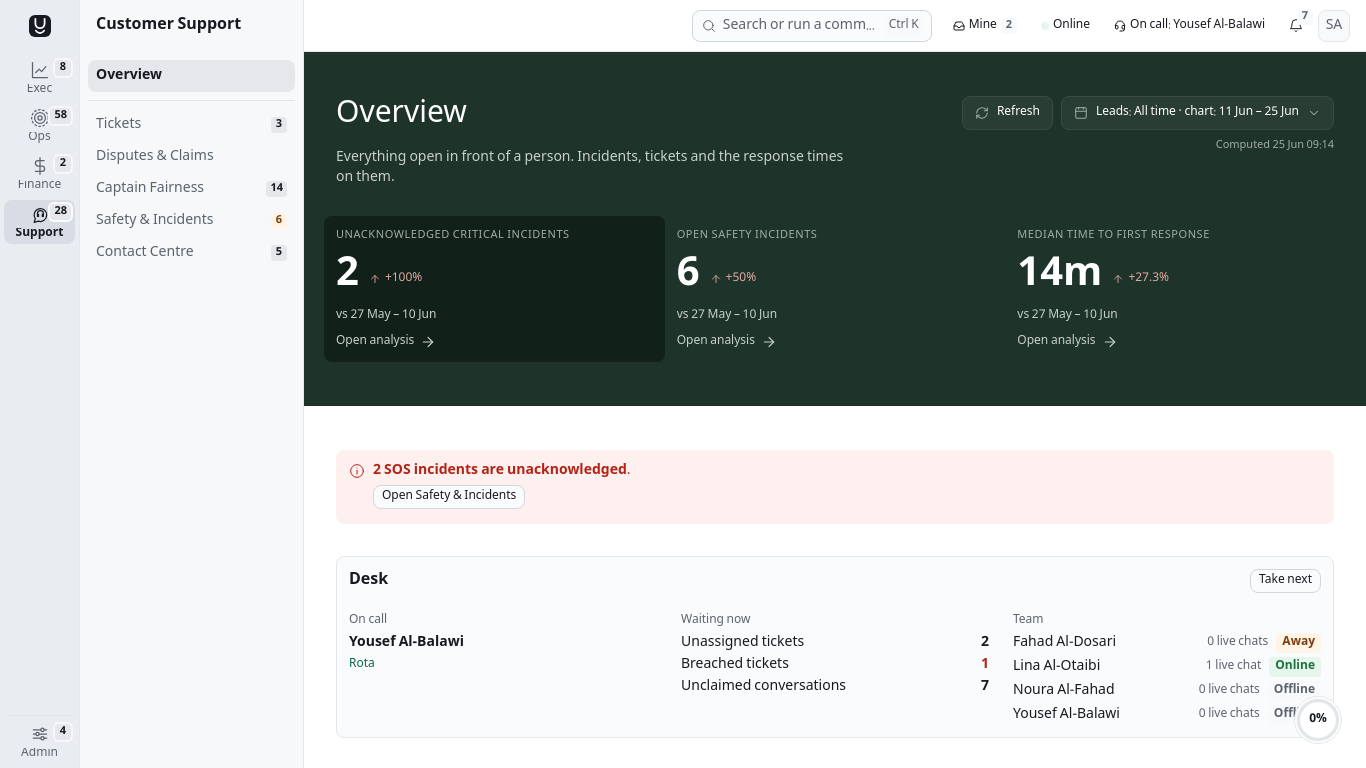
Test: the desk above the board › Take next claims the most urgent unheld ticket for me and opens it
The image size is (1366, 768).
Click the button "Take next". click: (1286, 581)
box: 1250,569 -> 1321,593
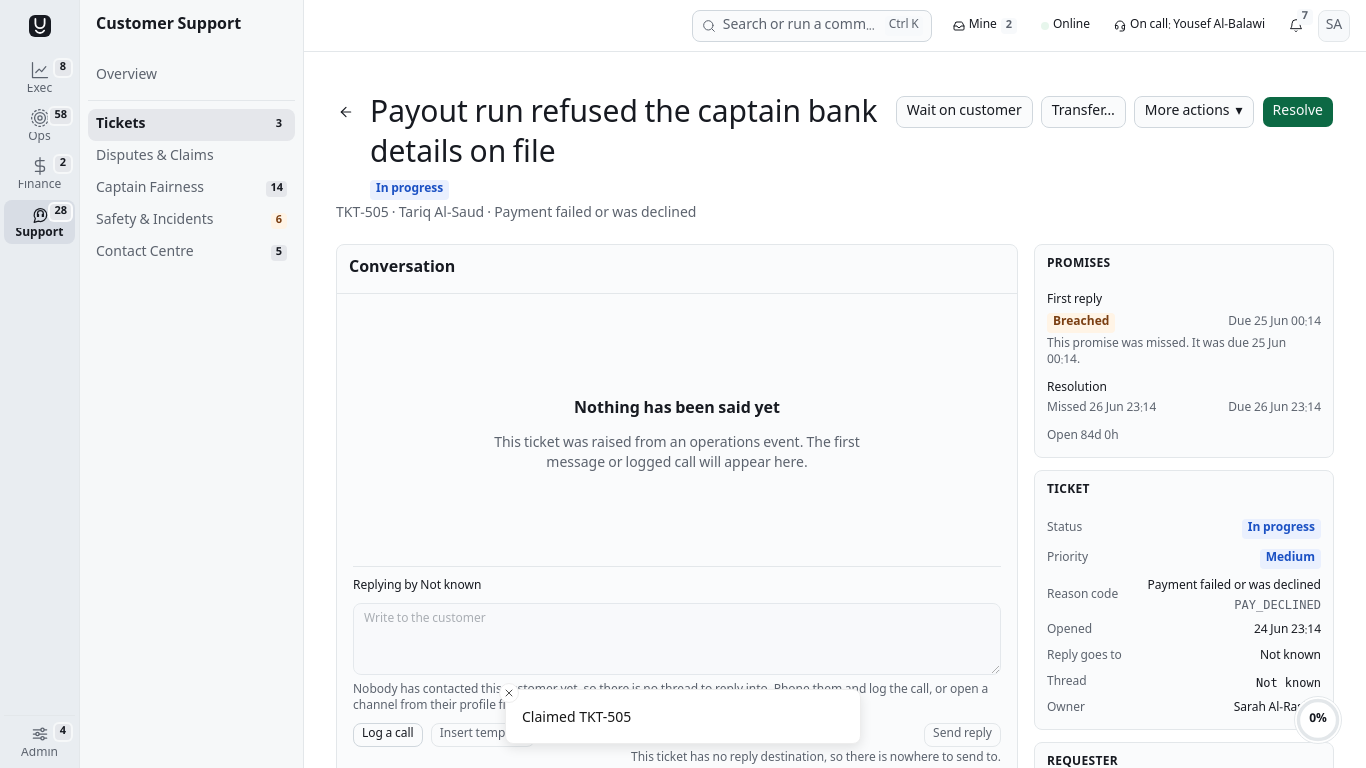
Now the text "Promises" is shown, box 1047,254 -> 1110,275
